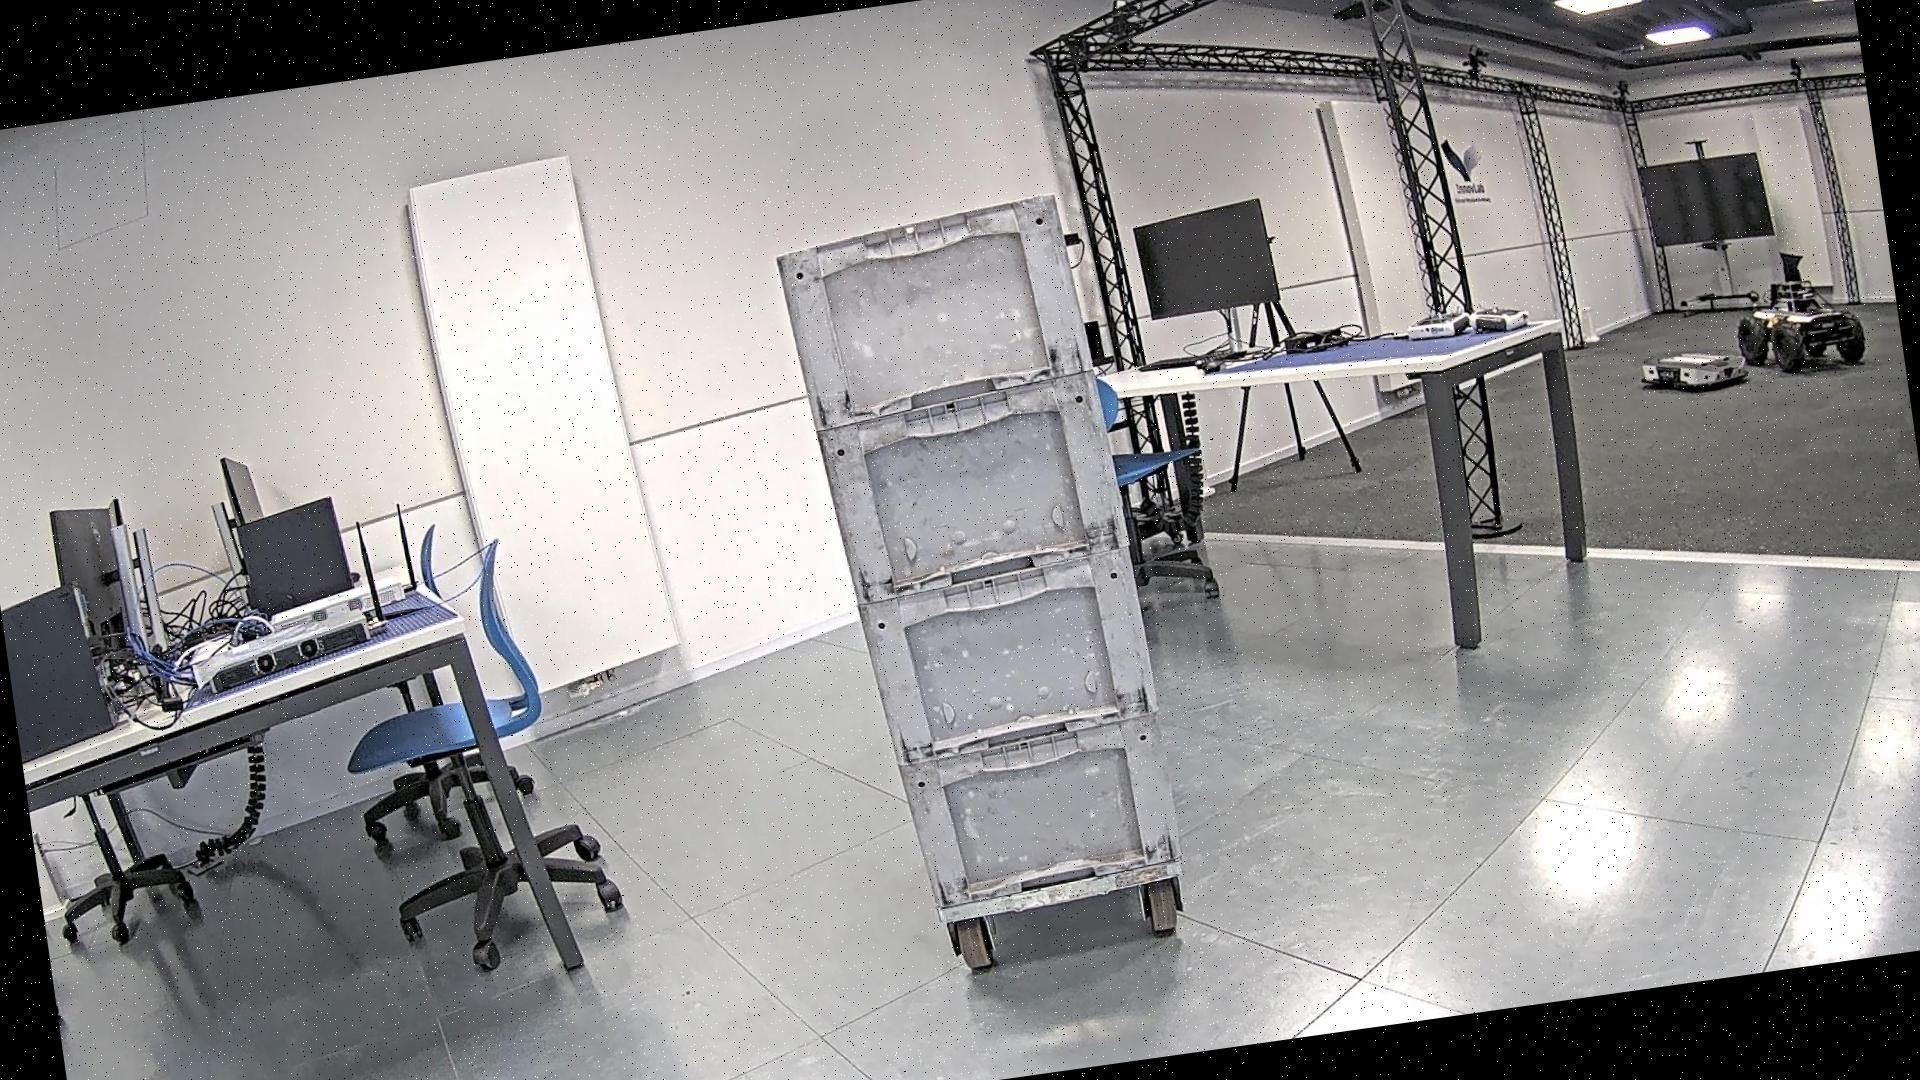Box4G: (766, 179, 1191, 940)
